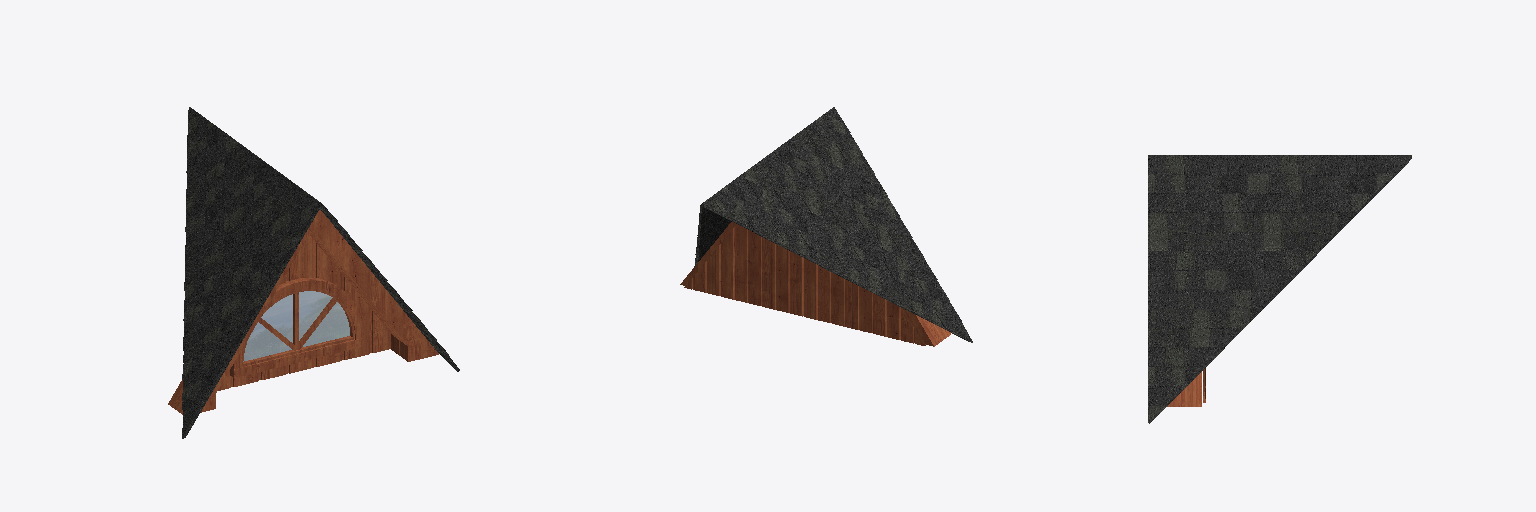
The picture shows the model from 3 angles: view 1: azimuth 30°, elevation 25°; view 2: azimuth 150°, elevation 25°; view 3: azimuth 270°, elevation 25°; orthographic projection.
Visible parts, largest first — view 1: dormer_shingles01, dormer_wood, dormer_window_wood, dormer_planks, dormer_window, dormer_tar02, dormer_tar01; view 2: dormer_shingles01, dormer_planks, dormer_wood, dormer_tar02, dormer_tar01; view 3: dormer_shingles02, dormer_tar02, dormer_wood.
Boxes of the visible parts, x1=… form: dormer_shingles01: x1=182, y1=107, x2=321, y2=437; dormer_wood: x1=168, y1=210, x2=438, y2=414; dormer_window_wood: x1=230, y1=277, x2=363, y2=377; dormer_planks: x1=218, y1=234, x2=390, y2=390; dormer_window: x1=243, y1=291, x2=349, y2=361; dormer_tar02: x1=320, y1=204, x2=458, y2=371; dormer_tar01: x1=182, y1=110, x2=320, y2=438; dormer_shingles01: x1=702, y1=107, x2=972, y2=341; dormer_planks: x1=707, y1=224, x2=900, y2=339; dormer_wood: x1=680, y1=222, x2=950, y2=346; dormer_tar02: x1=695, y1=204, x2=731, y2=265; dormer_tar01: x1=702, y1=204, x2=972, y2=342; dormer_shingles02: x1=1148, y1=155, x2=1411, y2=422; dormer_tar02: x1=1149, y1=156, x2=1411, y2=423; dormer_wood: x1=1167, y1=368, x2=1205, y2=406.
Bounding box in the file's own units: 73.43 × 50.89 × 60.1.
3 materials, 3 textured.